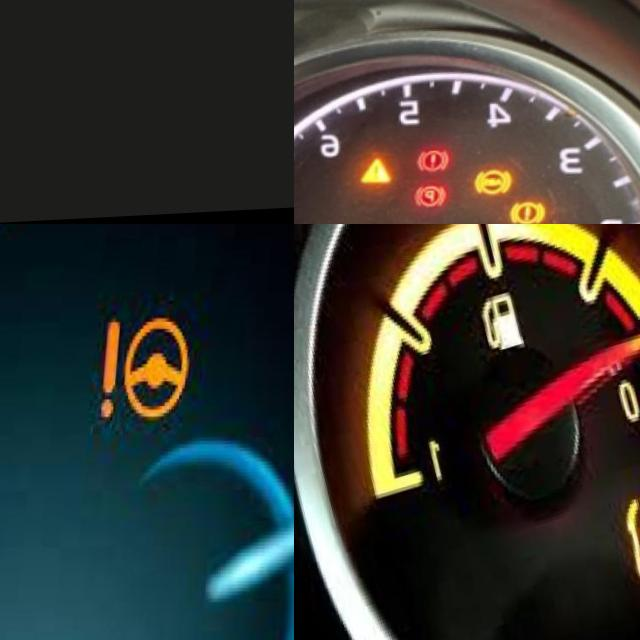Electronic Power Steering: (97, 321, 189, 425)
